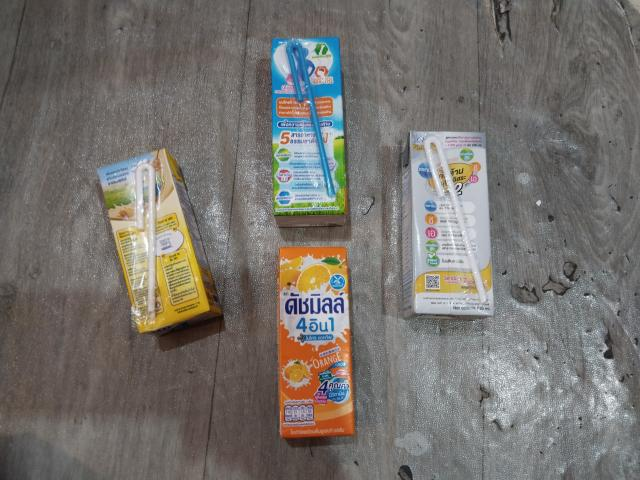drink_box: (91, 143, 234, 349), (401, 130, 497, 326), (268, 36, 356, 228), (274, 246, 358, 444)
